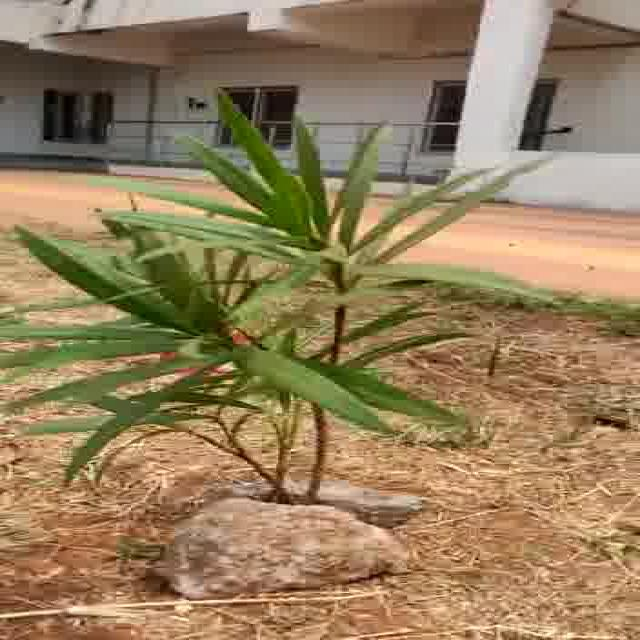Oleander: (22, 116, 600, 484)
